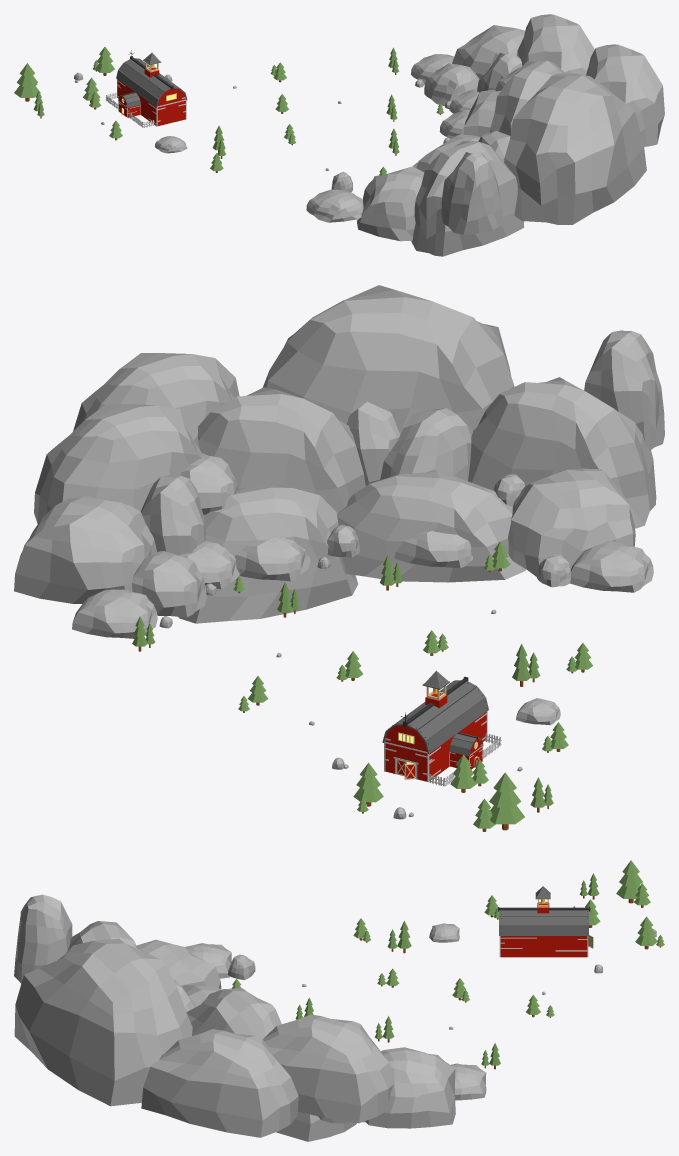
The model's file is farmhouse15.glb.
3 renders of one model, top to bottom at view 1: azimuth 30°, elevation 25°; view 2: azimuth 150°, elevation 25°; view 3: azimuth 270°, elevation 25°, orthographic. The views are drawn at different scales.
Visible parts, largest first — view 1: Cube.046, Cube.040, Cube.044, Cube.048, Cube.028, Cube.039, Cube, Cube.026, Cube.025, Cube.019, Cube.032, Cube.020 (+8 smaller); view 2: Cube.046, Cube.040, Cube.022, Cube.026, Cube.039, Cube.020, Cube.025, Cube.028, Cube.044, Cube.048, Cube, Cube.036 (+13 smaller); view 3: Cube.046, Cube.044, Cube.039, Cube.025, Cube, Cube.048, Cube.026, Cube.028, Cube.020, Cube.018, Cube.040, Cube.032 (+5 smaller).
Part boxes in pixels (x1,y1,x2,y2): Cube.046: (504, 73, 646, 224); Cube.040: (411, 140, 524, 256); Cube.044: (586, 44, 664, 146); Cube.048: (441, 152, 503, 234); Cube.028: (357, 166, 424, 241); Cube.039: (517, 14, 594, 75); Cube: (116, 58, 187, 125); Cube.026: (490, 60, 565, 135); Cube.025: (452, 25, 525, 79); Cube.019: (424, 63, 479, 106); Cube.032: (306, 189, 363, 222); Cube.020: (463, 89, 500, 136); Cube.046: (262, 285, 514, 434); Cube.040: (468, 377, 656, 528); Cube.022: (337, 469, 525, 582); Cube.026: (197, 387, 365, 512); Cube.039: (34, 404, 202, 523); Cube.020: (178, 483, 358, 623); Cube.025: (14, 495, 157, 603); Cube.028: (508, 468, 635, 576); Cube.044: (73, 353, 239, 431); Cube.048: (584, 330, 664, 450); Cube: (382, 680, 488, 781); Cube.036: (380, 408, 472, 480); Cube.046: (14, 938, 192, 1106); Cube.044: (141, 1029, 298, 1137); Cube.039: (263, 1014, 394, 1123); Cube.025: (365, 1047, 455, 1128); Cube: (499, 910, 588, 957); Cube.048: (14, 894, 72, 983); Cube.026: (186, 988, 281, 1038); Cube.028: (136, 939, 221, 988); Cube.020: (276, 1112, 356, 1141); Cube.018: (451, 1063, 486, 1100); Cube.040: (66, 921, 137, 952); Cube.032: (185, 943, 231, 978).
Size of the model in its own units: 70.83 by 20.8 by 76.27.
